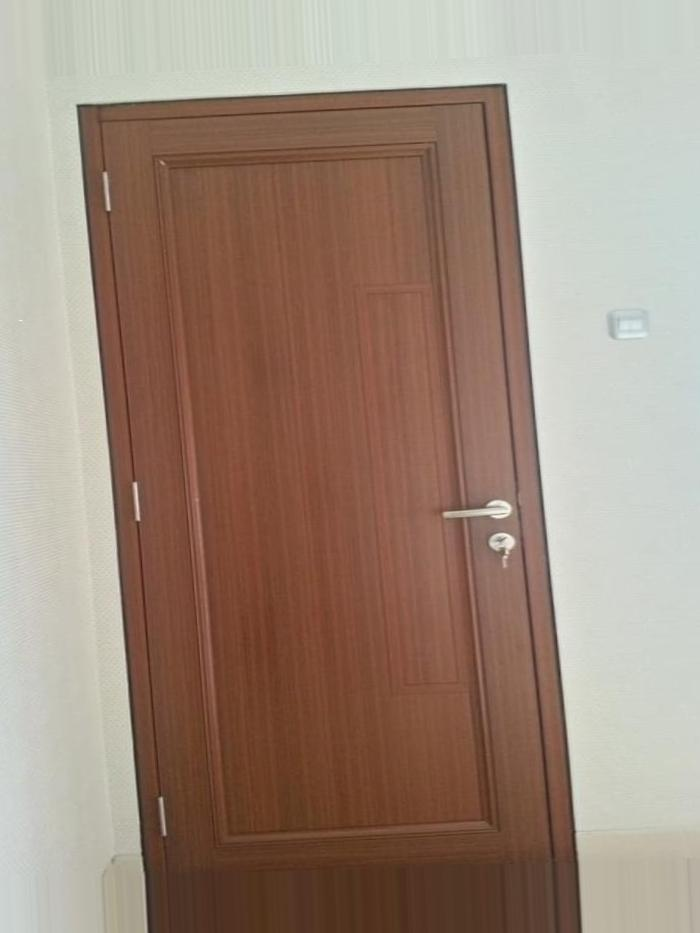door: (69, 69, 550, 933)
